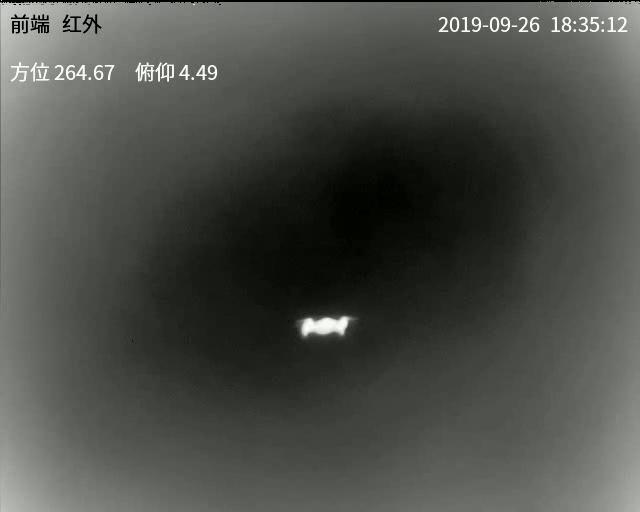DRONE: (296, 315, 353, 337)
